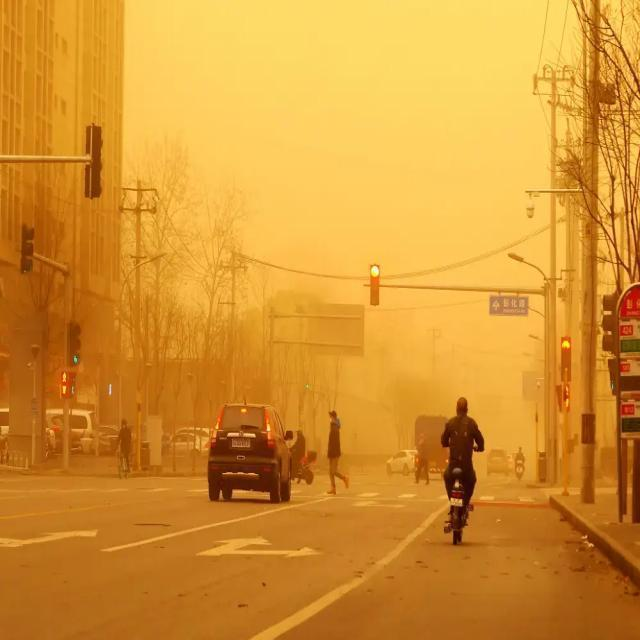Manhole: (130, 484, 158, 492)
Pothole: (129, 518, 175, 530)
